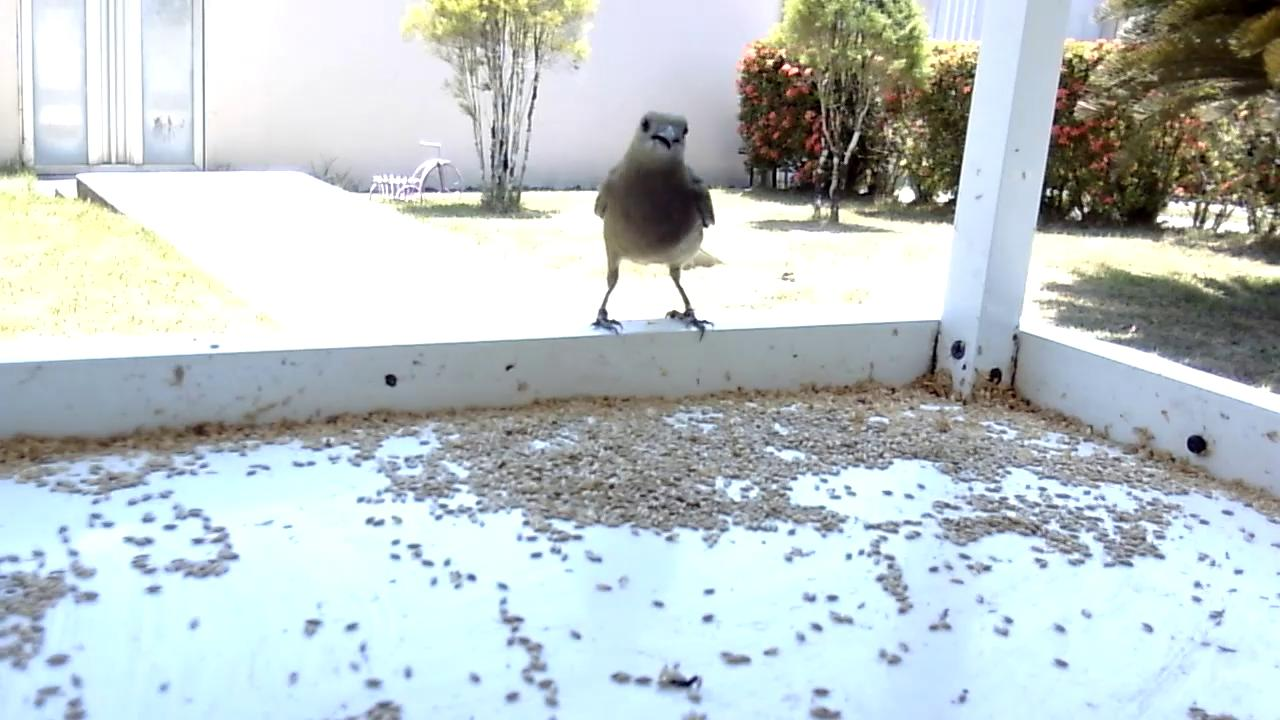sanhaco_do_coqueiro: (587, 108, 728, 348)
